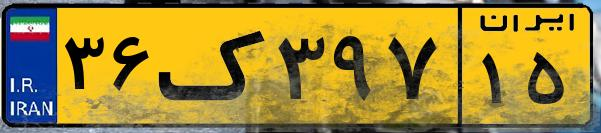1: (475, 38, 525, 113)
3: (270, 28, 330, 110), (57, 26, 110, 100)
5: (525, 38, 570, 115)
6: (110, 28, 158, 98)
7: (385, 28, 445, 110)
9: (330, 28, 385, 110)
ک: (158, 12, 270, 120)
